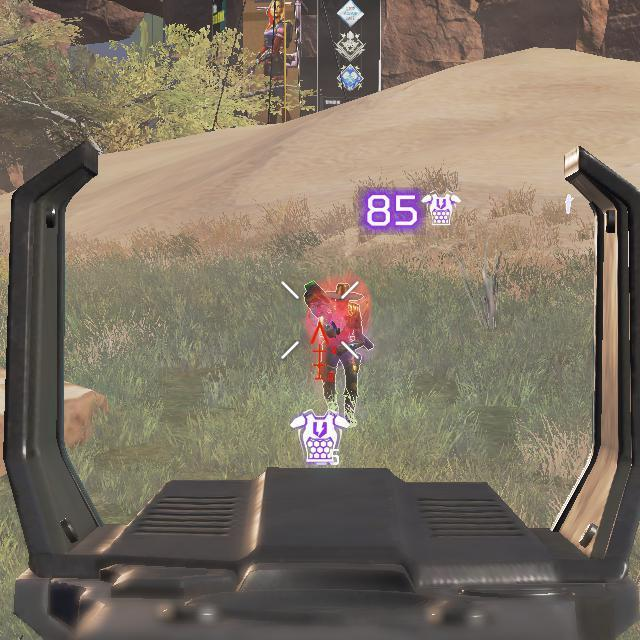avatar: (317, 280, 367, 416)
